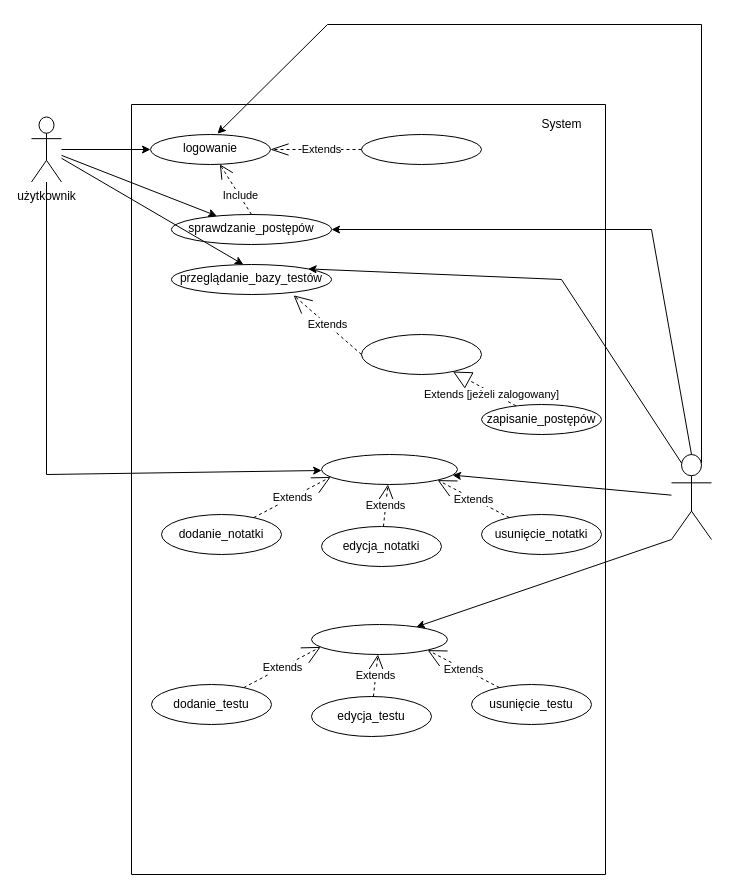
Some shapes in this 744 by 892 pixel diagram are drawn without their labels. Here are the shapes that lost their labels. From the top down, the box of each, then its label:
(360, 134, 482, 164): rejestracja
(360, 334, 482, 374): wykonanie_testu
(320, 454, 458, 484): przeglądanie_notatek
(670, 454, 712, 540): twórca_treści
(310, 624, 448, 654): zarządzanie_testami
